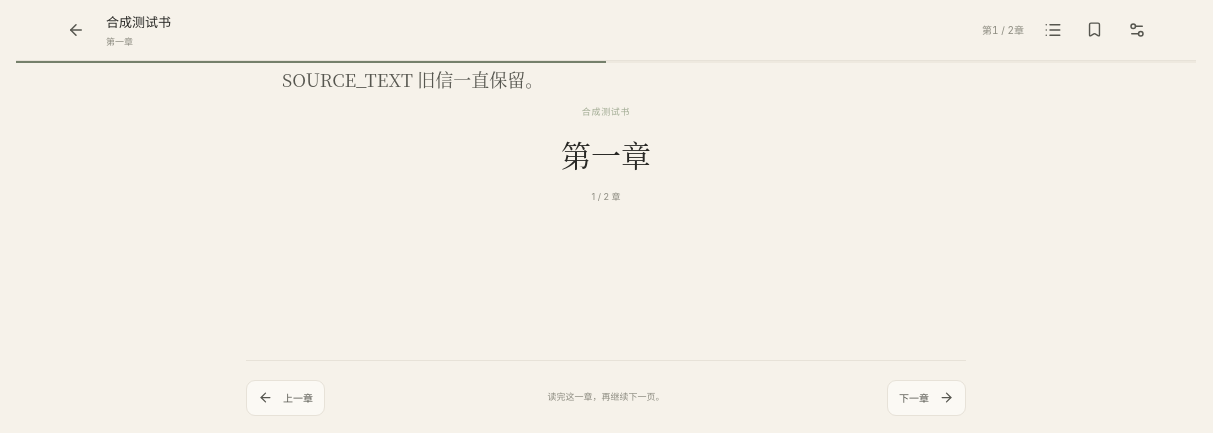
Test: Reader page expanded AI context flow › moves to the top of the text when opening the next chapter
Step 1. Click the button "下一章" → coordinates (926, 398), box top-left (887, 380), bottom-right (966, 416)
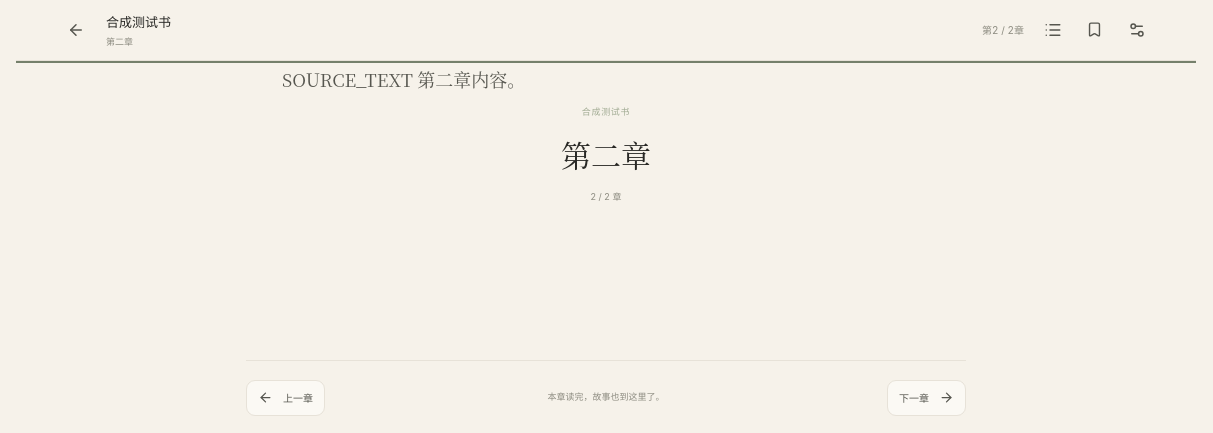
Expected: the heading "第二章" is shown, top-left (561, 132), bottom-right (651, 177)
